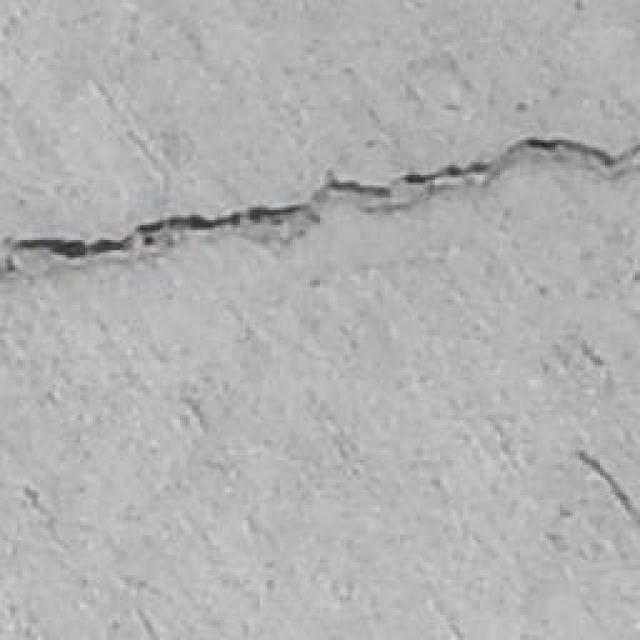concrete-crack: (8, 135, 640, 258)
